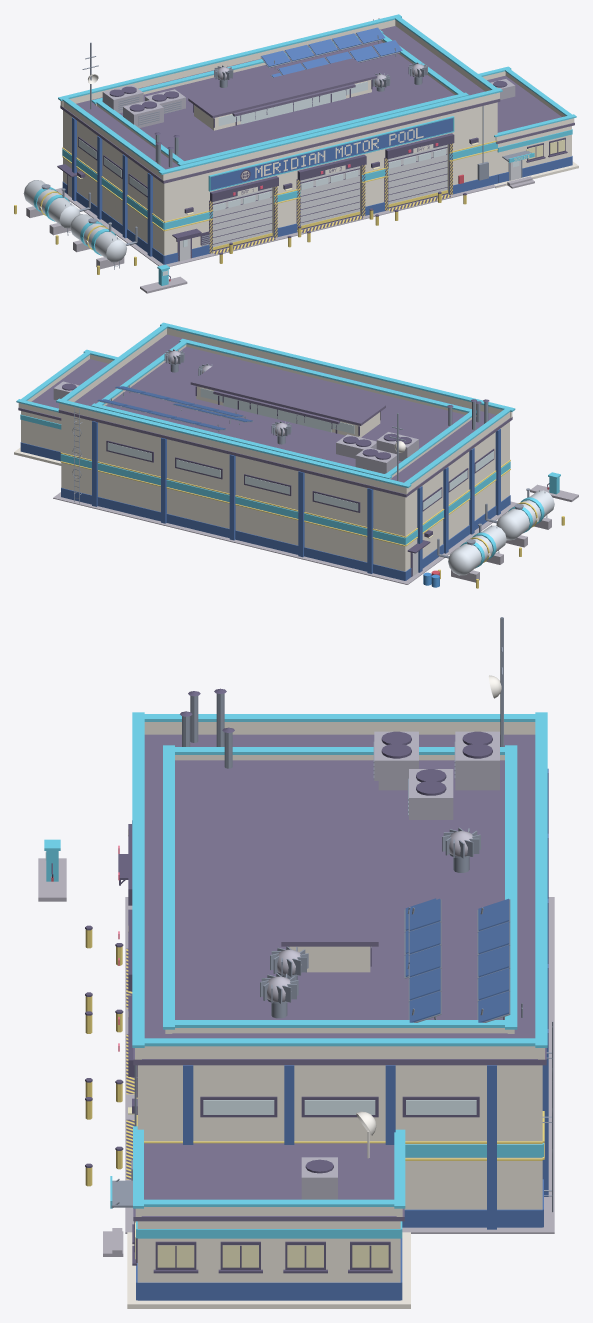
Rendered from garage.glb.
3 views of the same model, one above another, from view 1: azimuth 30°, elevation 25°; view 2: azimuth 150°, elevation 25°; view 3: azimuth 270°, elevation 25° (orthographic). The views are drawn at different scales.
Parts seen in each view (by area): view 1: garage_roof, garage_walls, garage_parapet, garage_cap, garage_clerestoryCap, garage_board, gs_cap, garage_solarPanels, garage_door0closed, garage_door1closed, garage_door2closed, garage_officeRoof (+37 smaller); view 2: garage_walls, garage_roof, garage_parapet, garage_cap, garage_clerestoryCap, garage_pilasters, garage_base, gs_cap, garage_band, garage_plinth, garage_highGlass, garage_highFrames (+20 smaller); view 3: garage_roof, garage_walls, garage_clerestoryCap, garage_cap, garage_officeRoof, garage_office, gs_cap, garage_parapet, garage_solarPanels, garage_pilasters, garage_officeBase, garage_plinth (+20 smaller).
Boxes of the visible parts, x1,y1,x2,y2 form: garage_roof: (60,26,500,183); garage_walls: (63,102,497,255); garage_parapet: (60,19,499,180); garage_cap: (58,14,502,174); garage_clerestoryCap: (188,58,377,118); garage_board: (210,118,452,190); gs_cap: (91,30,468,165); garage_solarPanels: (261,27,402,74); garage_door0closed: (213,187,272,247); garage_door1closed: (300,166,359,225); garage_door2closed: (388,145,447,204); garage_officeRoof: (487,75,574,143); garage_walls: (61,413,509,571); garage_roof: (58,334,512,497); garage_parapet: (59,328,512,494); garage_cap: (56,322,515,487); garage_clerestoryCap: (190,364,385,425); garage_pilasters: (92,421,500,573); garage_base: (61,488,510,580); gs_cap: (91,338,476,478); garage_band: (60,454,510,544); garage_plinth: (53,492,517,584); garage_highGlass: (107,442,493,511); garage_highFrames: (106,440,494,576); garage_roof: (133,734,546,1065); garage_walls: (137,1065,542,1209); garage_clerestoryCap: (281,781,378,946); garage_cap: (132,712,547,1047); garage_officeRoof: (133,1143,404,1221); garage_office: (127,1221,410,1308); gs_cap: (163,745,517,1029); garage_parapet: (135,722,544,1059); garage_solarPanels: (409,898,509,1022); garage_pilasters: (183,768,548,1229); garage_officeBase: (136,1238,402,1300); garage_plinth: (125,897,554,1233).
Size of the model in its own units: 53.83 by 16.67 by 25.5.
